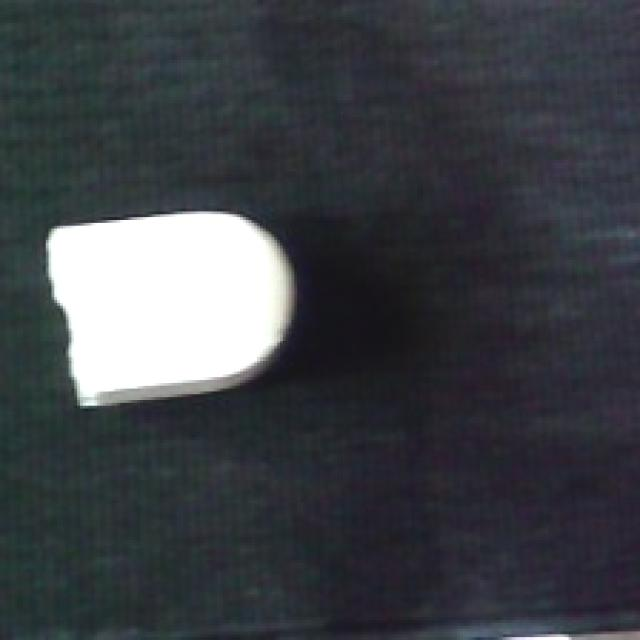defected: (40, 203, 306, 408)
